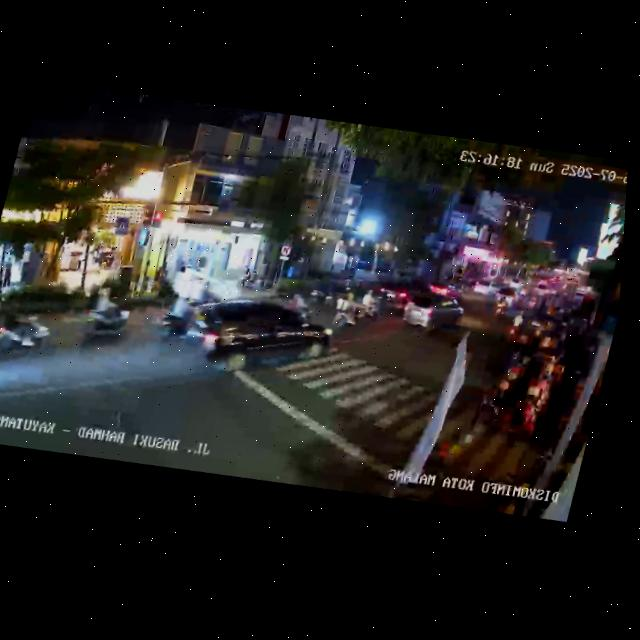car: (185, 278, 340, 390), (397, 285, 470, 343), (0, 347, 4, 431)
motorcycle: (74, 283, 138, 356), (0, 302, 59, 370), (155, 291, 208, 348), (326, 289, 364, 335), (353, 284, 388, 325), (504, 309, 528, 347), (491, 289, 514, 321), (193, 276, 218, 305)
person: (0, 260, 15, 290), (175, 255, 191, 278), (0, 263, 4, 291)
